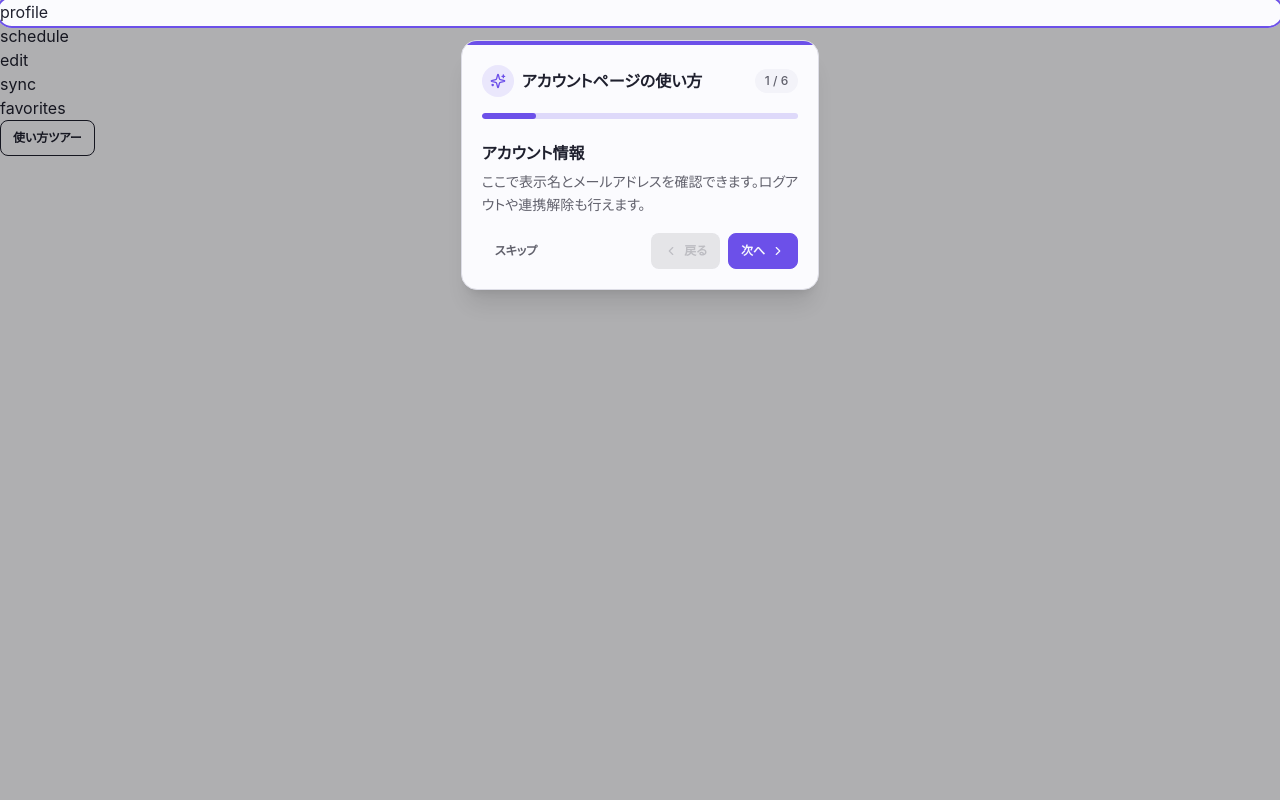
Test: AccountPageTour › 最後まで進めると完了状態を保存して閉じる
The image size is (1280, 800).
expect the dialog "アカウントページの使い方" is shown: met, box [461, 40, 819, 290]
Click the button with test id "account-tour-next": (763, 250) [728, 232, 798, 268]
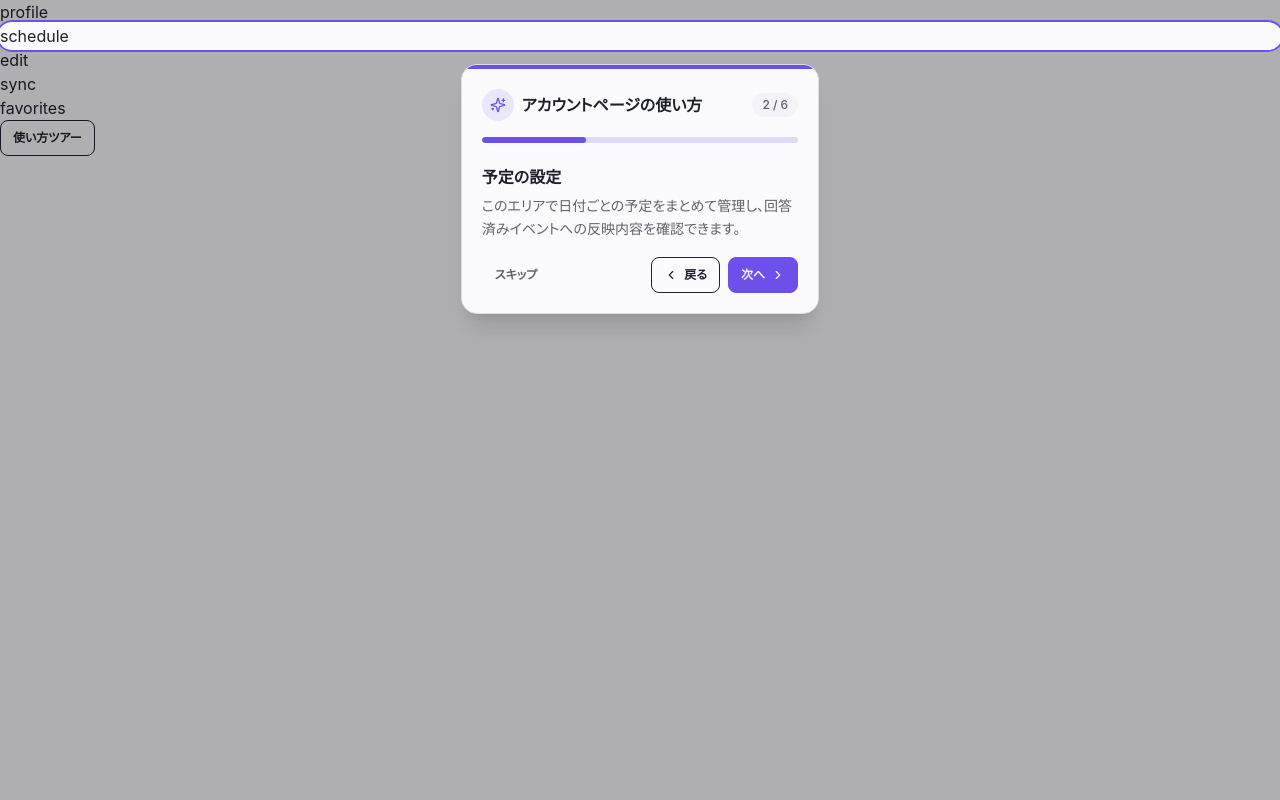
Click the button with test id "account-tour-next": (763, 274) [728, 256, 798, 292]
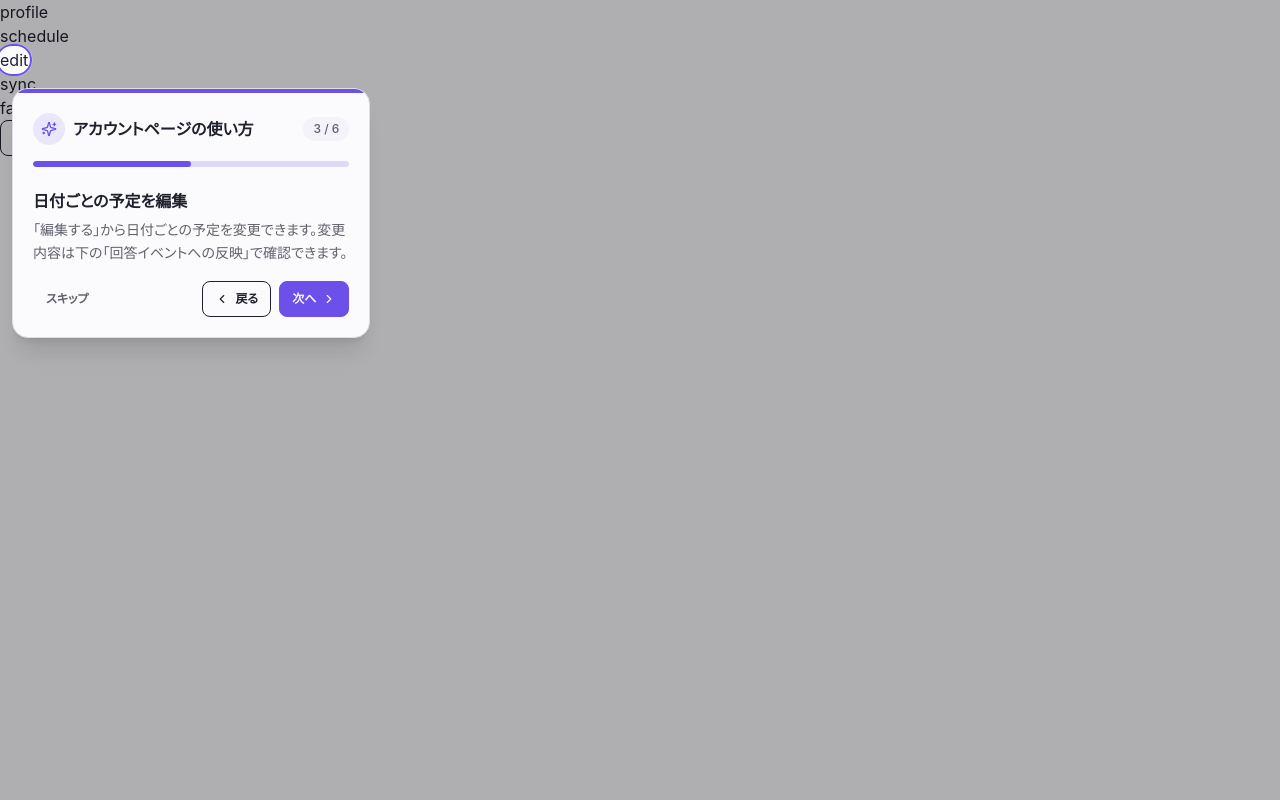
Click the button with test id "account-tour-next": (314, 298) [279, 280, 349, 316]
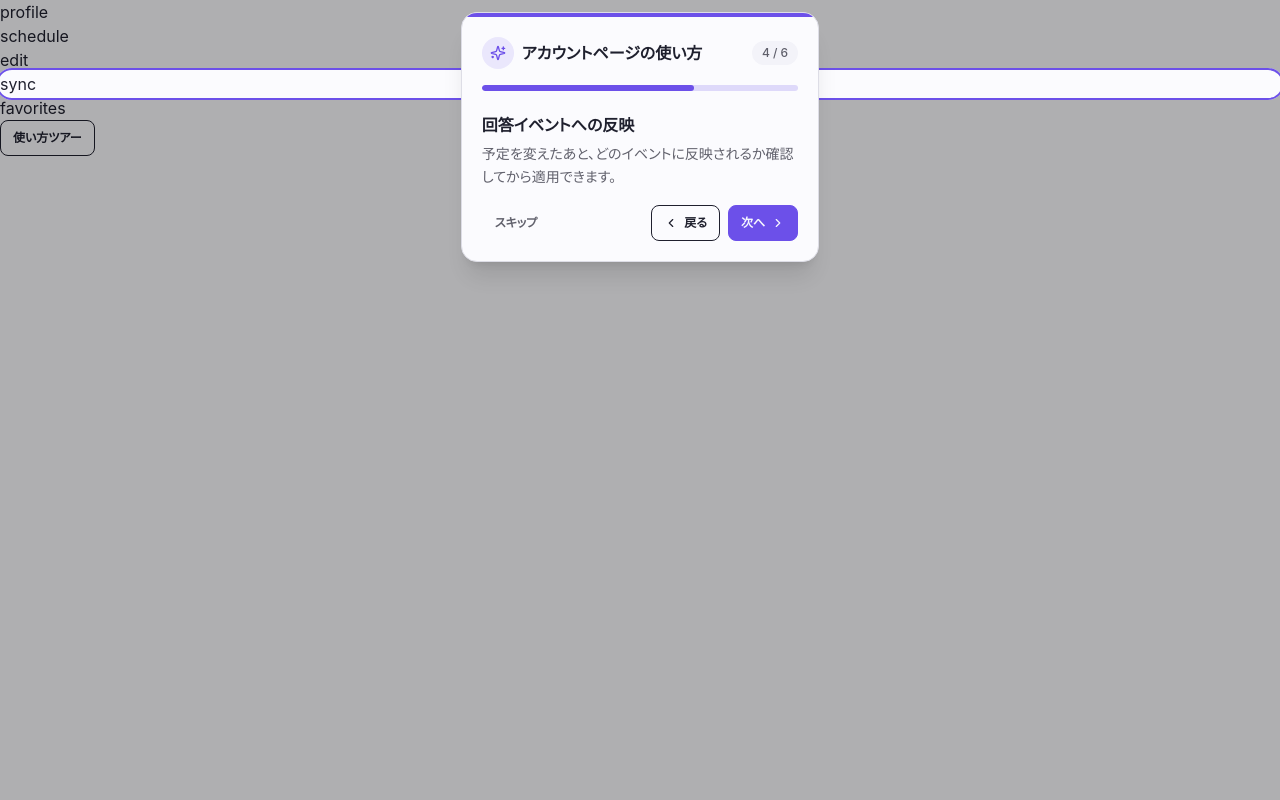
Click the button with test id "account-tour-next": (763, 222) [728, 204, 798, 240]
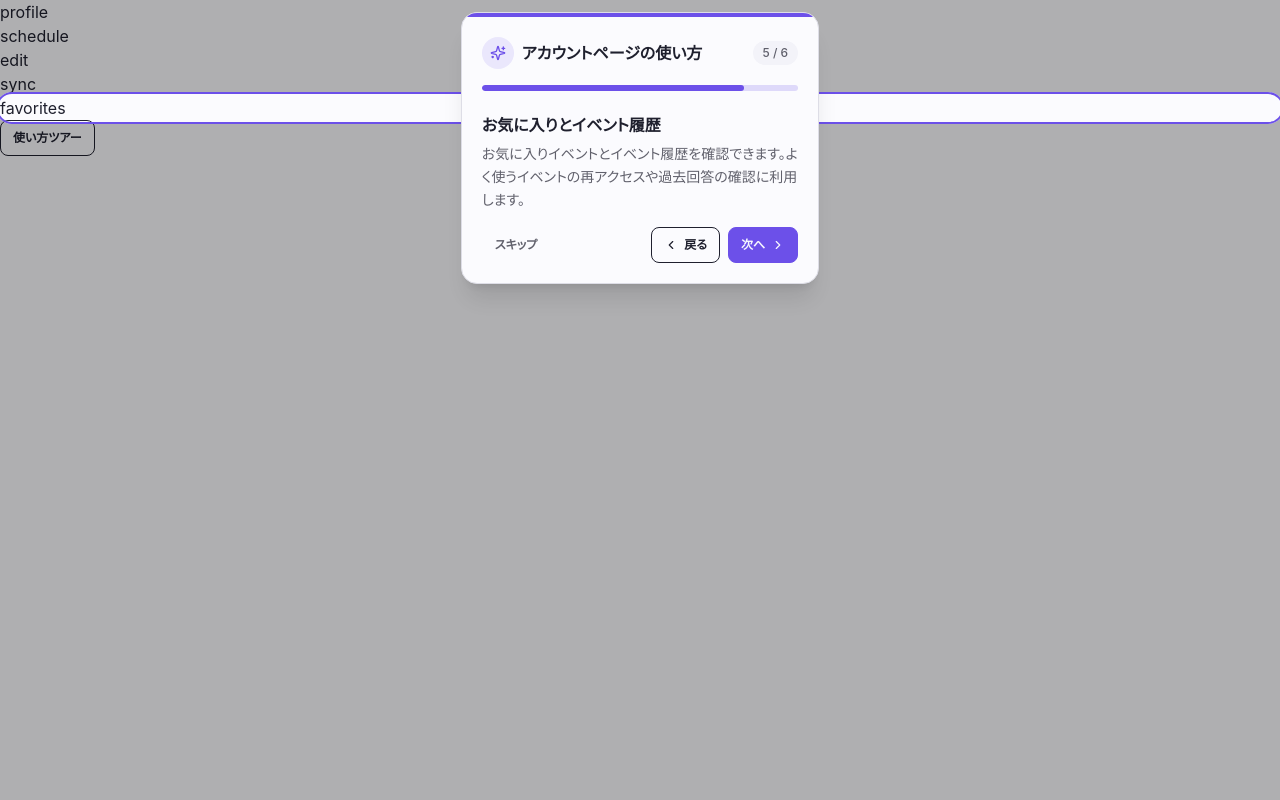
Click the button with test id "account-tour-next": (763, 245) [728, 227, 798, 263]
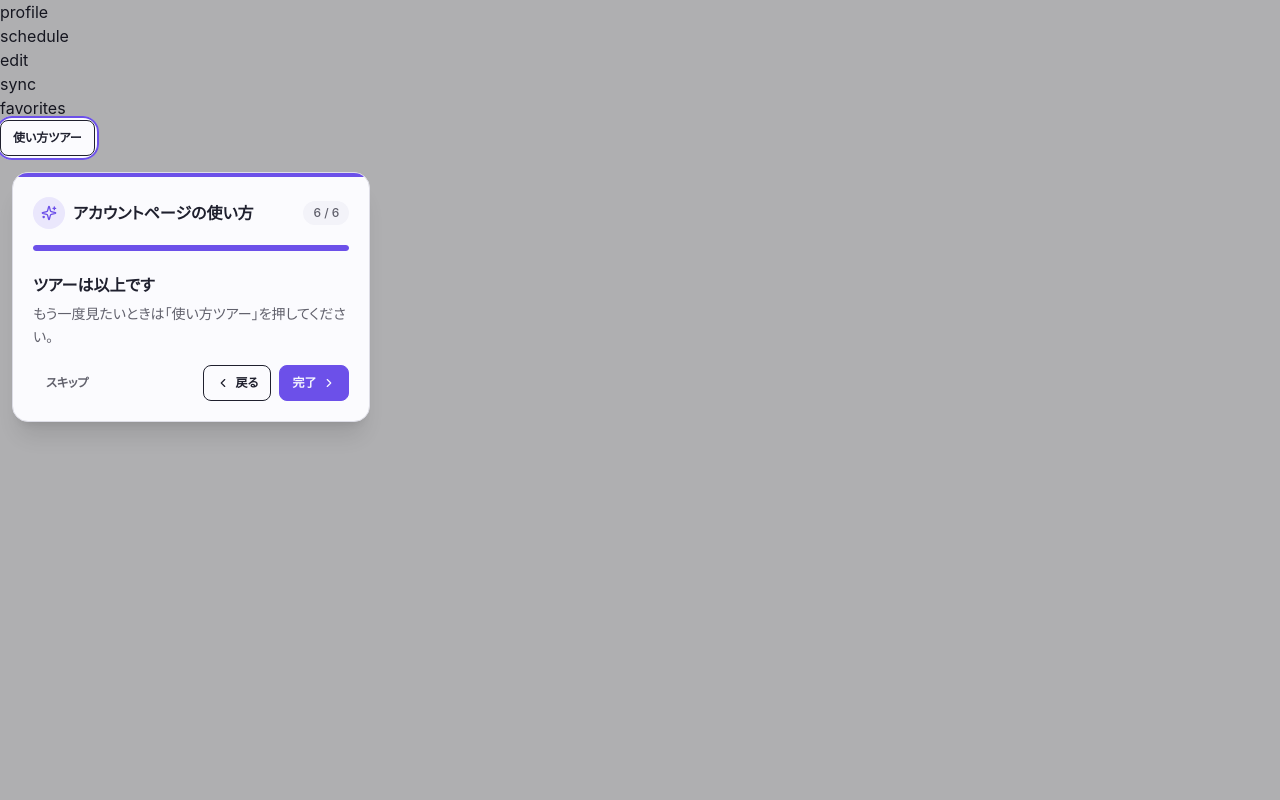
Click the button with test id "account-tour-next": (314, 382) [279, 364, 349, 400]
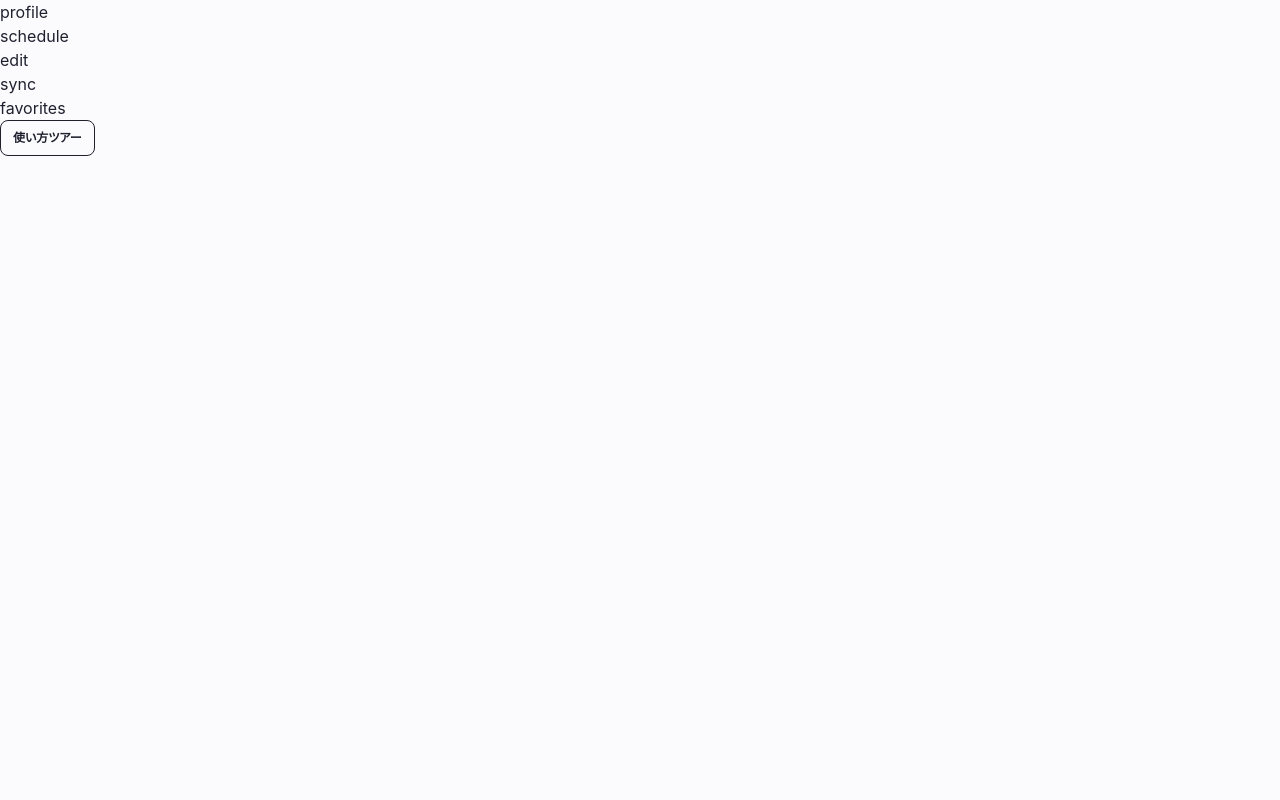
expect the heading "アカウントページの使い方" is gone: met
